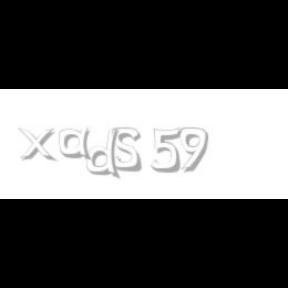5: (150, 128, 181, 174)
9: (180, 128, 208, 172)
S: (112, 128, 142, 172)
a: (60, 128, 96, 160)
d: (86, 128, 124, 180)
x: (18, 128, 60, 162)
